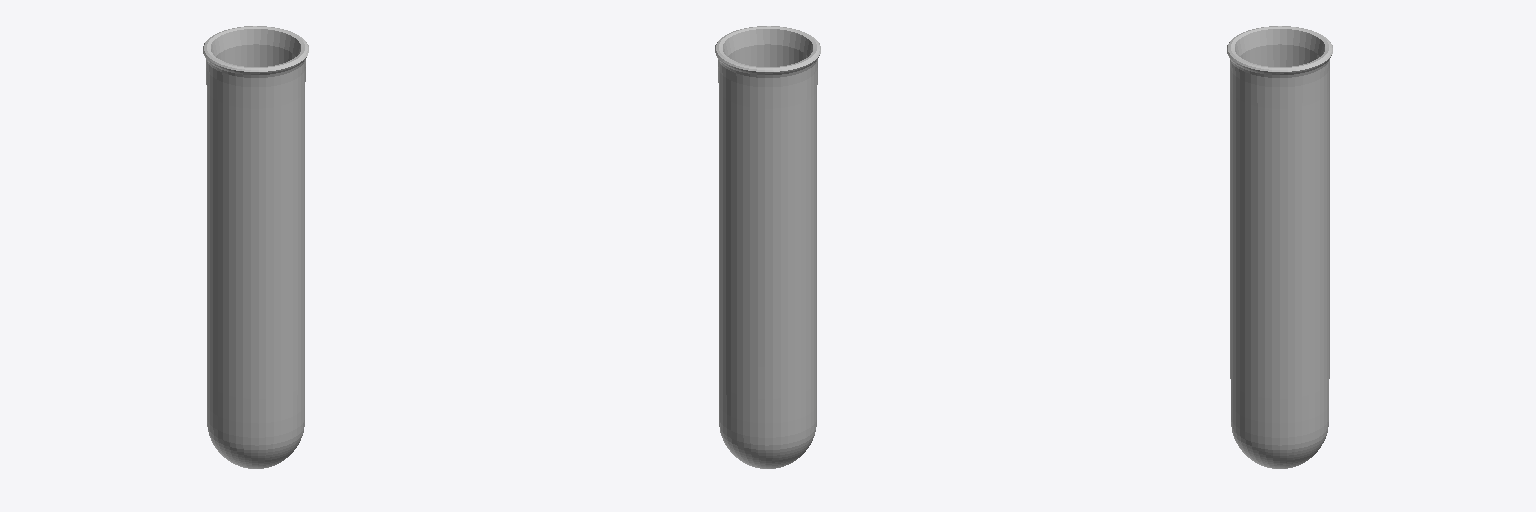
The model's file is Vial.obj.
3 renders of one model, left to right at view 1: azimuth 30°, elevation 25°; view 2: azimuth 150°, elevation 25°; view 3: azimuth 270°, elevation 25°, orthographic.
Visible parts, largest first — view 1: Vial; view 2: Vial; view 3: Vial.
Part boxes in pixels (x1,y1,x2,y2): Vial: (203,26,308,468); Vial: (715,26,820,468); Vial: (1227,26,1332,468).
Size of the model in its own units: 1.02 by 4.39 by 1.02.